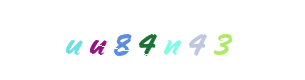3: (176, 0, 256, 80)
4: (108, 0, 188, 80), (130, 0, 210, 80)
8: (82, 0, 162, 80)
N: (112, 0, 192, 80)
U: (57, 0, 137, 80), (82, 0, 162, 80)
